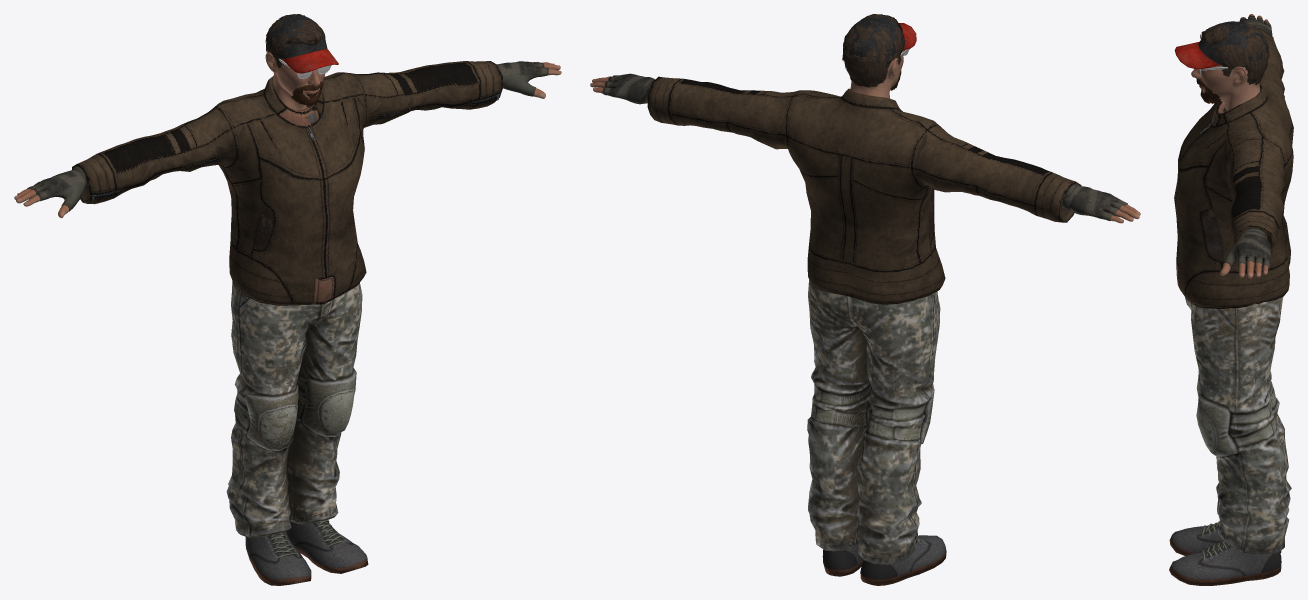
The model's file is sport man.obj.
3 views of the same model, side by side, from view 1: azimuth 30°, elevation 25°; view 2: azimuth 150°, elevation 25°; view 3: azimuth 270°, elevation 25° (orthographic).
Parts seen in each view (by area): view 1: Tops, Bottoms, Shoes, Gloves, Body, Hats, Hair; view 2: Tops, Bottoms, Shoes, Gloves, Hair, Hats, Body; view 3: Tops, Bottoms, Shoes, Body, Hair, Hats, Gloves.
Boxes of the visible parts, <box> form: Tops: <box>72,61,502,305</box>; Bottoms: <box>226,281,362,537</box>; Shoes: <box>245,520,368,585</box>; Gloves: <box>27,61,548,211</box>; Body: <box>14,52,561,218</box>; Hats: <box>266,14,338,73</box>; Hair: <box>265,14,325,67</box>; Tops: <box>647,76,1081,304</box>; Bottoms: <box>807,280,940,564</box>; Shoes: <box>822,535,946,585</box>; Gloves: <box>602,73,1127,220</box>; Hair: <box>842,14,903,87</box>; Hats: <box>843,16,916,64</box>; Body: <box>590,50,1140,223</box>; Tops: <box>1174,28,1293,308</box>; Bottoms: <box>1184,296,1291,554</box>; Shoes: <box>1169,521,1281,585</box>; Body: <box>1191,14,1268,278</box>; Hair: <box>1200,22,1269,84</box>; Hats: <box>1174,21,1268,69</box>; Gloves: <box>1223,15,1272,268</box>.
Size of the model in its own units: 194 by 184 by 38.7.
